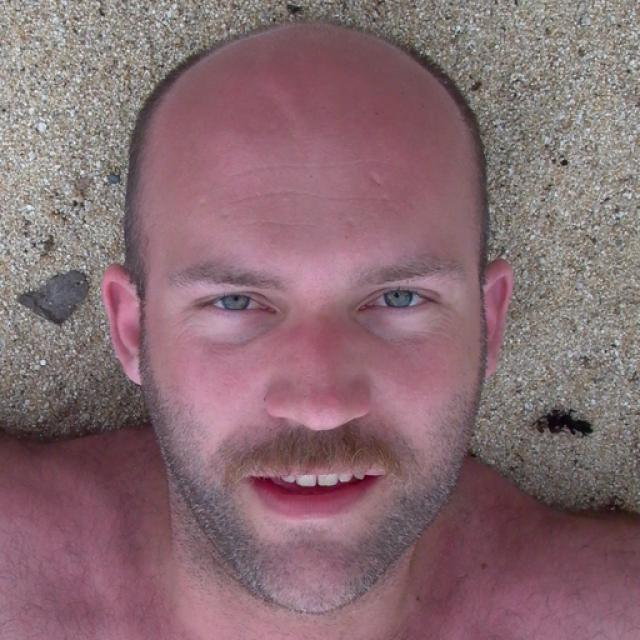disgust: (138, 22, 482, 614)
